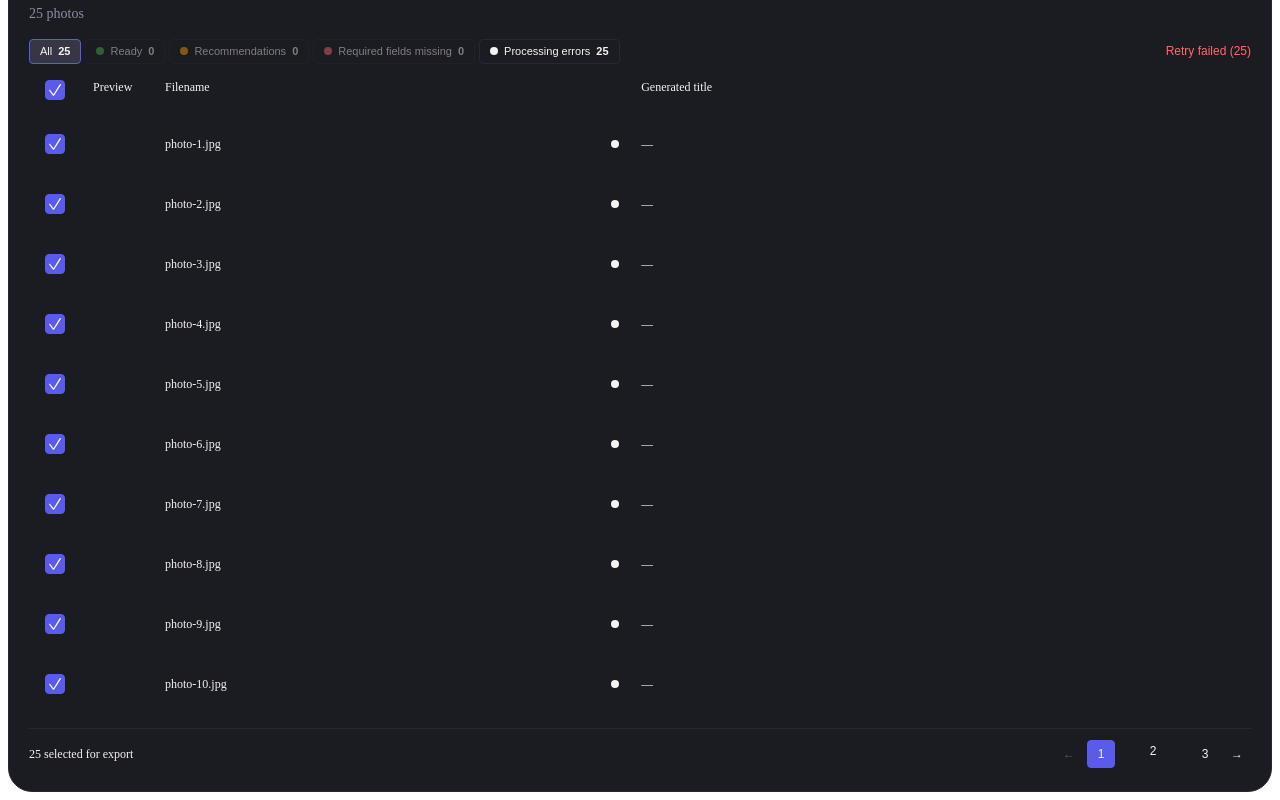
Scenario: клик по номеру страницы показывает соответствующие строки
(page scrolled)
Step 1. Click the button "3" → (1205, 754), box 1191,740 -> 1219,768
(page scrolled)
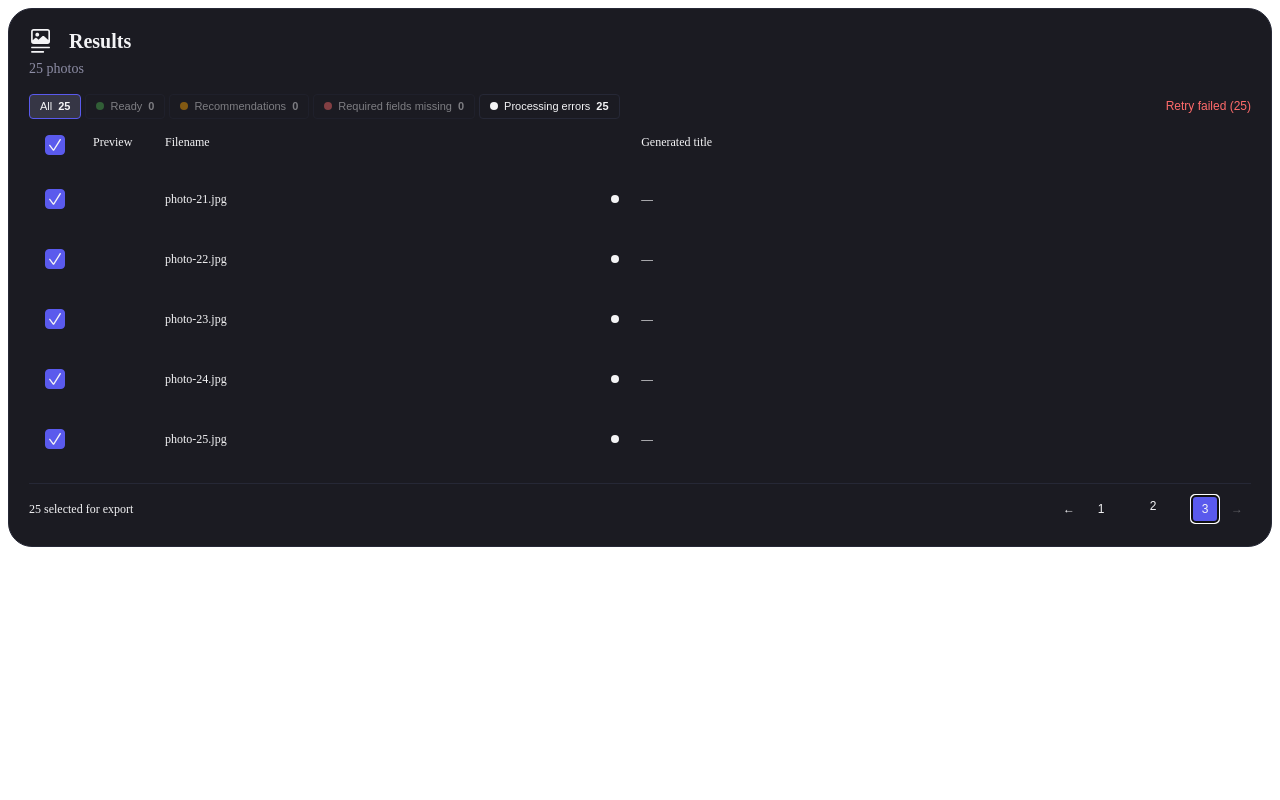
Check: the text "photo-21.jpg" is shown, box 165,192 -> 227,206
Check: the text "photo-25.jpg" is shown, box 165,432 -> 227,446
